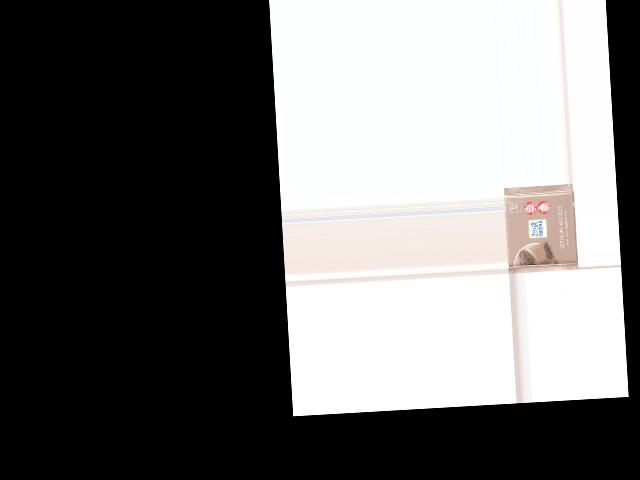chocolate: (504, 185, 579, 273)
